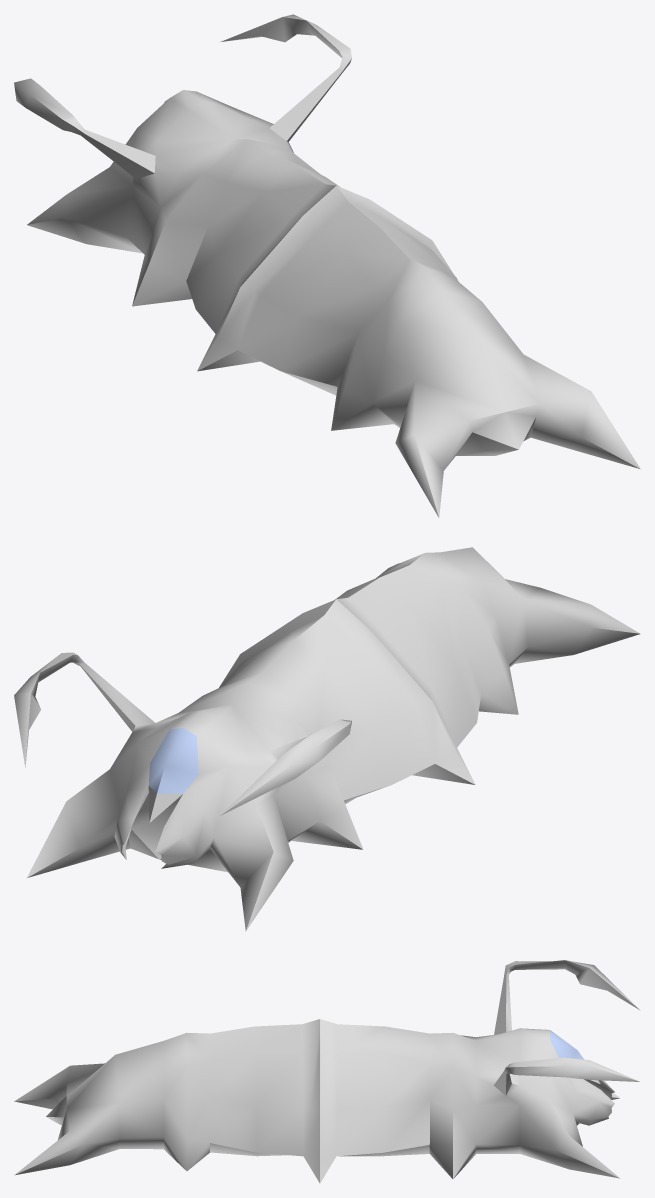
File: rcworm01.glb
3 renders of one model, top to bottom at view 1: azimuth 30°, elevation 25°; view 2: azimuth 150°, elevation 25°; view 3: azimuth 270°, elevation 25°, orthographic. The views are drawn at different scales.
Visible parts, largest first — view 1: obj43; view 2: obj43; view 3: obj43.
Boxes of the visible parts, x1=… form: obj43: x1=14, y1=14, x2=640, y2=517; obj43: x1=14, y1=547, x2=640, y2=931; obj43: x1=14, y1=960, x2=640, y2=1183.
Size of the model in its own units: 30.58 by 17.2 by 75.05.
